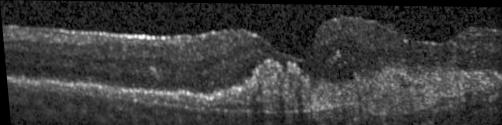subretinal_hyperreflective_material: (207, 57, 502, 113)
